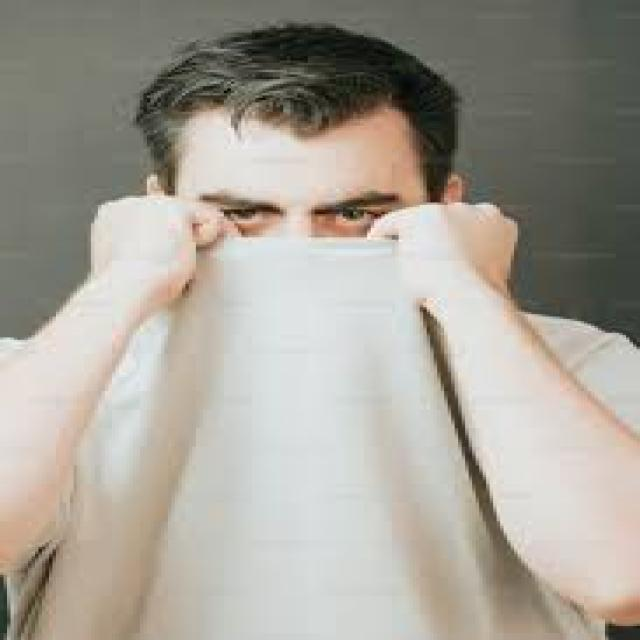8_ropa_rostro: (144, 218, 484, 396)
